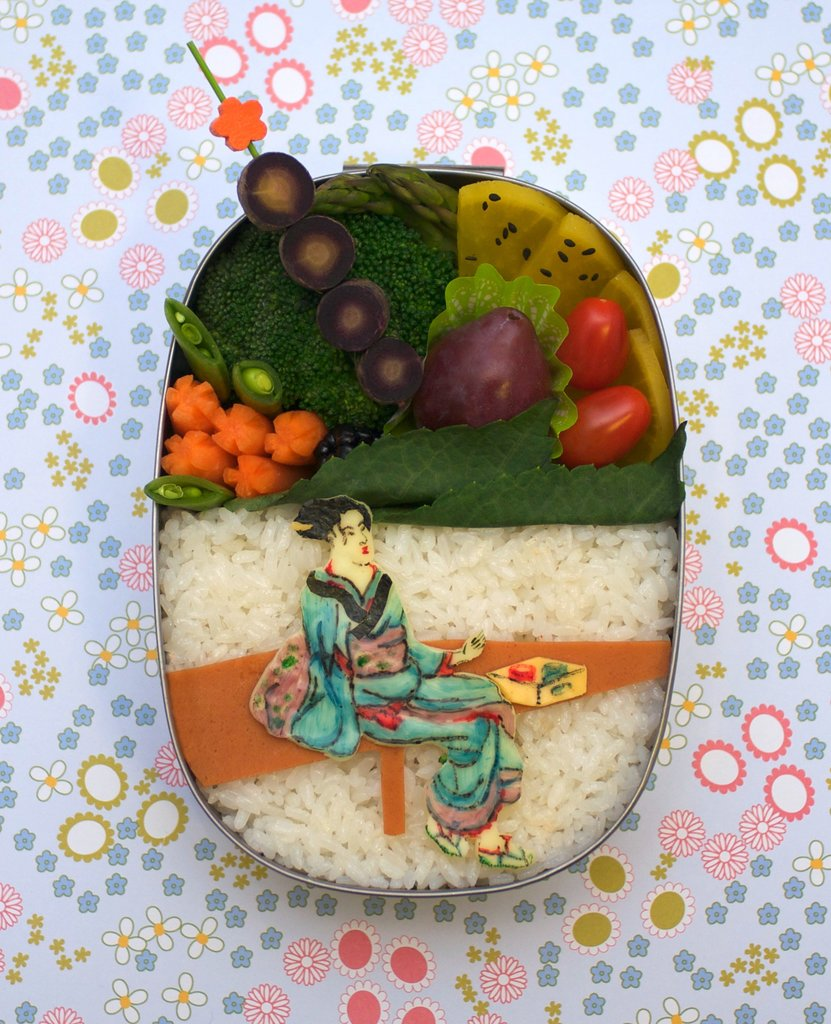Tomato: (557, 365, 665, 453), (563, 294, 635, 390)
